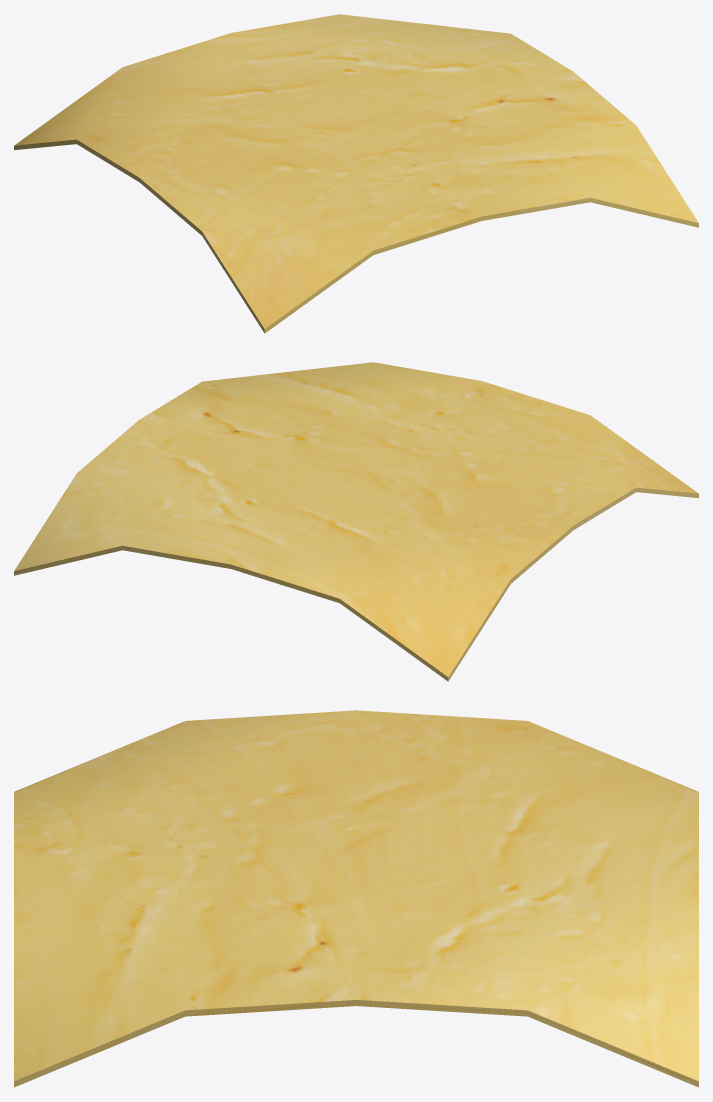
File: kaas We are cooked.fbx
3 views of the same model, one above another, from view 1: azimuth 30°, elevation 25°; view 2: azimuth 150°, elevation 25°; view 3: azimuth 270°, elevation 25° (orthographic). The views are drawn at different scales.
Parts seen in each view (by area): view 1: kaas; view 2: kaas; view 3: kaas.
Part boxes in pixels (x1,y1,x2,y2): kaas: (14, 14, 698, 333); kaas: (14, 362, 698, 681); kaas: (14, 710, 698, 1087).
Size of the model in its own units: 9 by 1.27 by 9.
